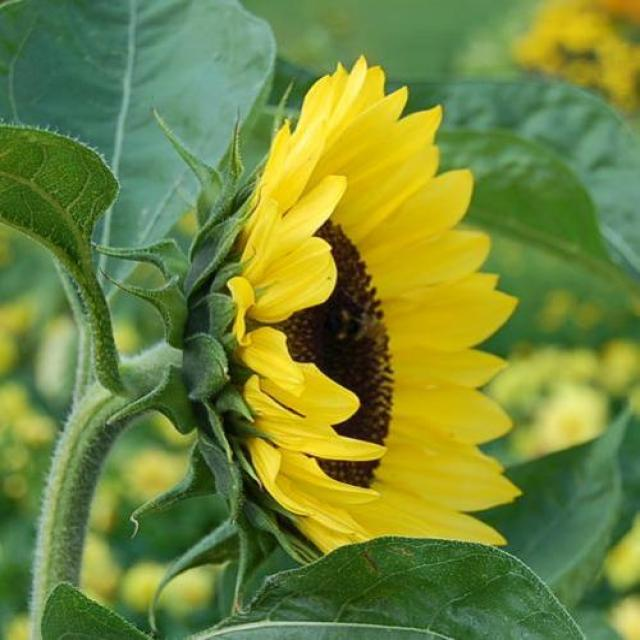sunflower: (142, 47, 534, 575)
